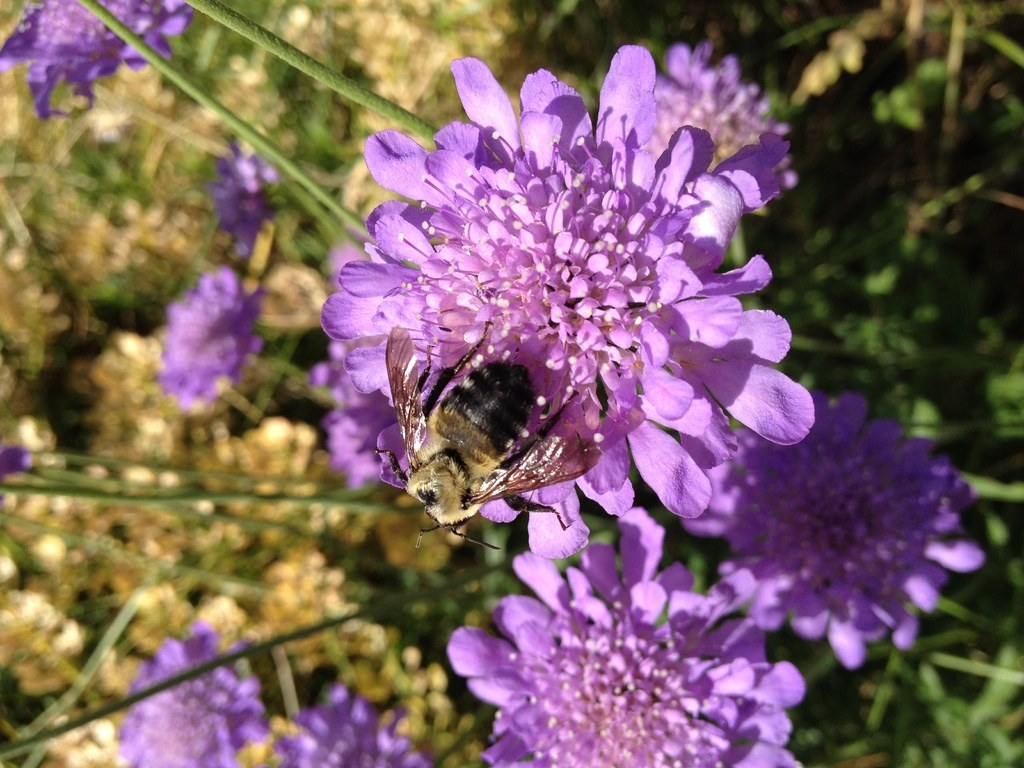bee: (375, 327, 590, 550)
insect: (314, 40, 813, 593), (443, 505, 805, 767), (673, 388, 993, 669), (0, 0, 195, 124), (117, 630, 276, 767), (150, 267, 269, 413), (252, 692, 433, 767), (206, 131, 282, 259)
